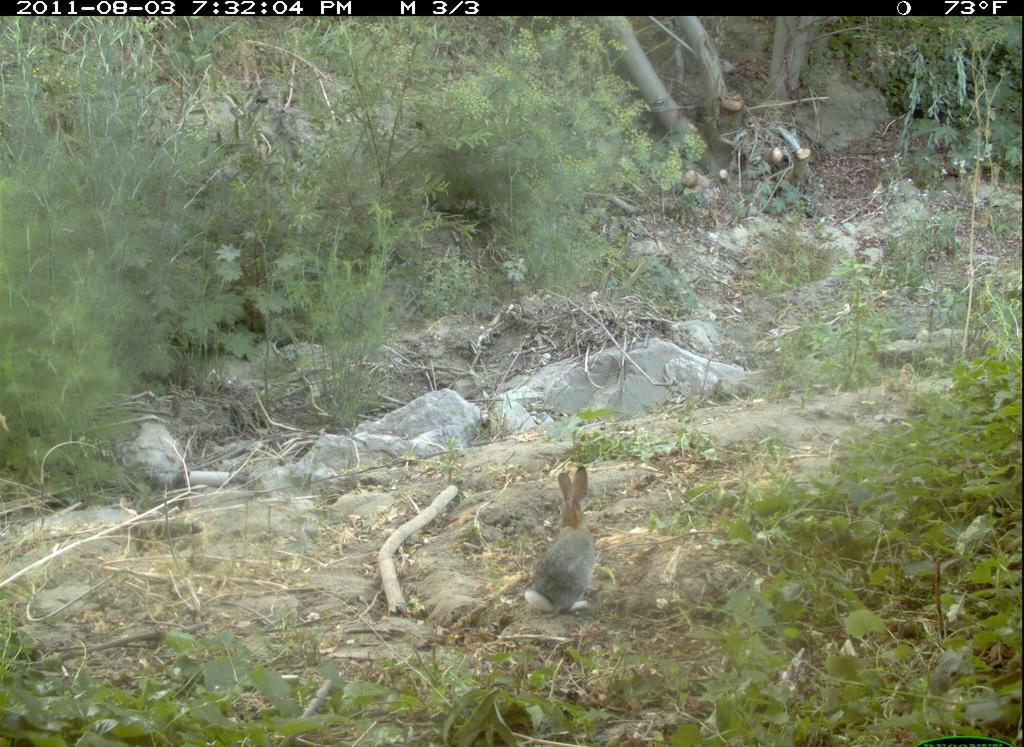rabbit: (520, 466, 609, 626)
